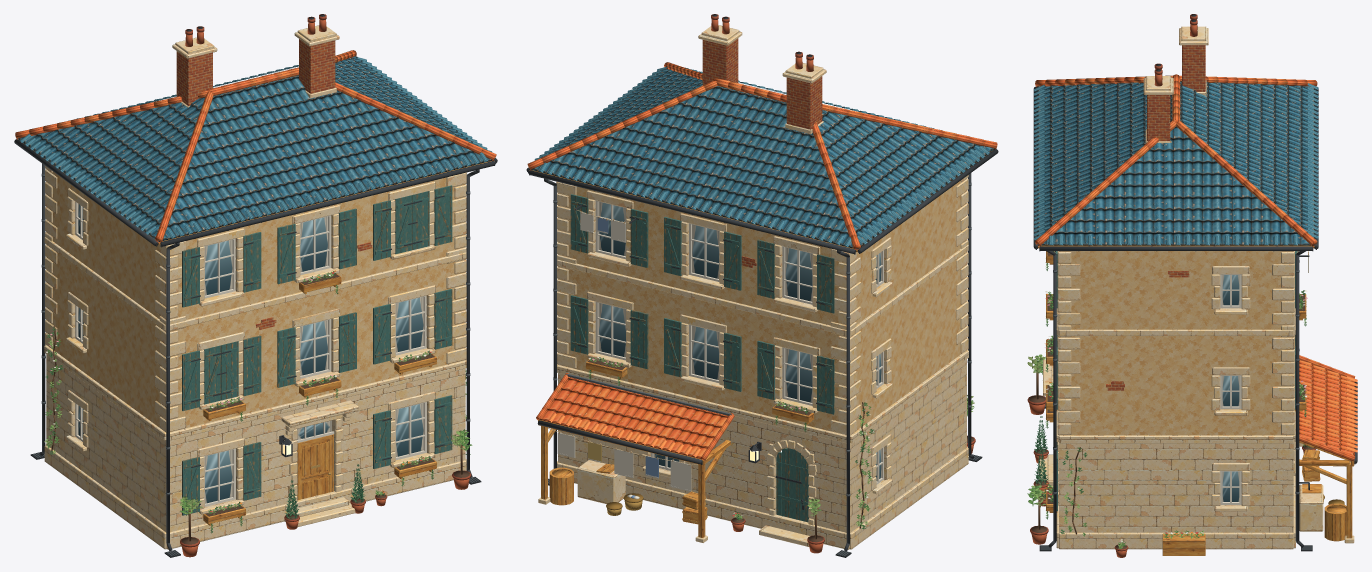
3 views of the same model, side by side, from view 1: azimuth 30°, elevation 25°; view 2: azimuth 150°, elevation 25°; view 3: azimuth 270°, elevation 25° (orthographic). The views are drawn at different scales.
Visible parts, largest first — view 1: seaside_stone, seaside_roof, seaside_plaster, seaside_shutter, house_paint, house_window_pane, alt_chimney_brick, seaside_ridge, alt_front_door_oak, alt_shutters_open, alt_shutters_drawn, detail_window_boxes (+2 smaller); view 2: seaside_stone, seaside_roof, seaside_plaster, seaside_shutter, seaside_ridge, house_paint, house_window_pane, alt_chimney_brick, detail_yard, detail_laundry, seaside_timber, detail_window_boxes (+1 smaller); view 3: seaside_roof, seaside_stone, seaside_plaster, seaside_ridge, house_paint, alt_chimney_brick, detail_planters, detail_yard, seaside_timber, detail_window_boxes, house_window_pane, detail_vines (+1 smaller).
Boxes of the visible parts, x1,y1,x2,y2 form: seaside_stone: [44, 166, 466, 549]; seaside_roof: [18, 55, 495, 241]; seaside_plaster: [46, 169, 465, 431]; seaside_shutter: [182, 208, 452, 515]; house_paint: [14, 139, 497, 557]; house_window_pane: [78, 204, 423, 503]; alt_chimney_brick: [172, 14, 339, 107]; seaside_ridge: [15, 50, 496, 242]; alt_front_door_oak: [281, 400, 358, 502]; alt_shutters_open: [182, 185, 452, 410]; alt_shutters_drawn: [203, 191, 429, 404]; detail_window_boxes: [203, 270, 436, 533]; seaside_stone: [538, 175, 968, 549]; seaside_roof: [528, 66, 994, 249]; seaside_plaster: [558, 178, 966, 434]; seaside_shutter: [570, 194, 834, 522]; seaside_ridge: [527, 62, 997, 460]; house_paint: [526, 149, 998, 557]; house_window_pane: [598, 202, 881, 480]; alt_chimney_brick: [698, 14, 826, 133]; detail_yard: [549, 460, 824, 553]; detail_laundry: [547, 205, 697, 491]; seaside_timber: [529, 151, 991, 537]; detail_window_boxes: [586, 357, 813, 431]; seaside_roof: [1034, 81, 1318, 245]; seaside_stone: [1038, 251, 1354, 549]; seaside_plaster: [1059, 251, 1293, 435]; seaside_ridge: [1035, 74, 1357, 461]; house_paint: [1033, 86, 1357, 551]; alt_chimney_brick: [1143, 14, 1208, 143]; detail_planters: [1027, 354, 1205, 557]; detail_yard: [1299, 444, 1346, 541]; seaside_timber: [1037, 245, 1354, 538]; detail_window_boxes: [1045, 251, 1307, 519]; house_window_pane: [1222, 275, 1239, 501]; detail_vines: [1060, 447, 1087, 536].
Size of the model in its own units: 9.89 by 12.26 by 8.46.
Materials: 10 (9 with a texture image).
